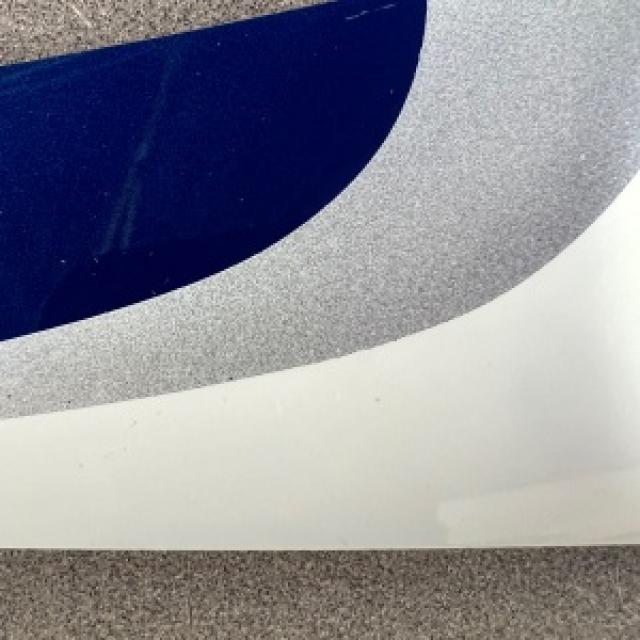healthy: (11, 452, 145, 529)
